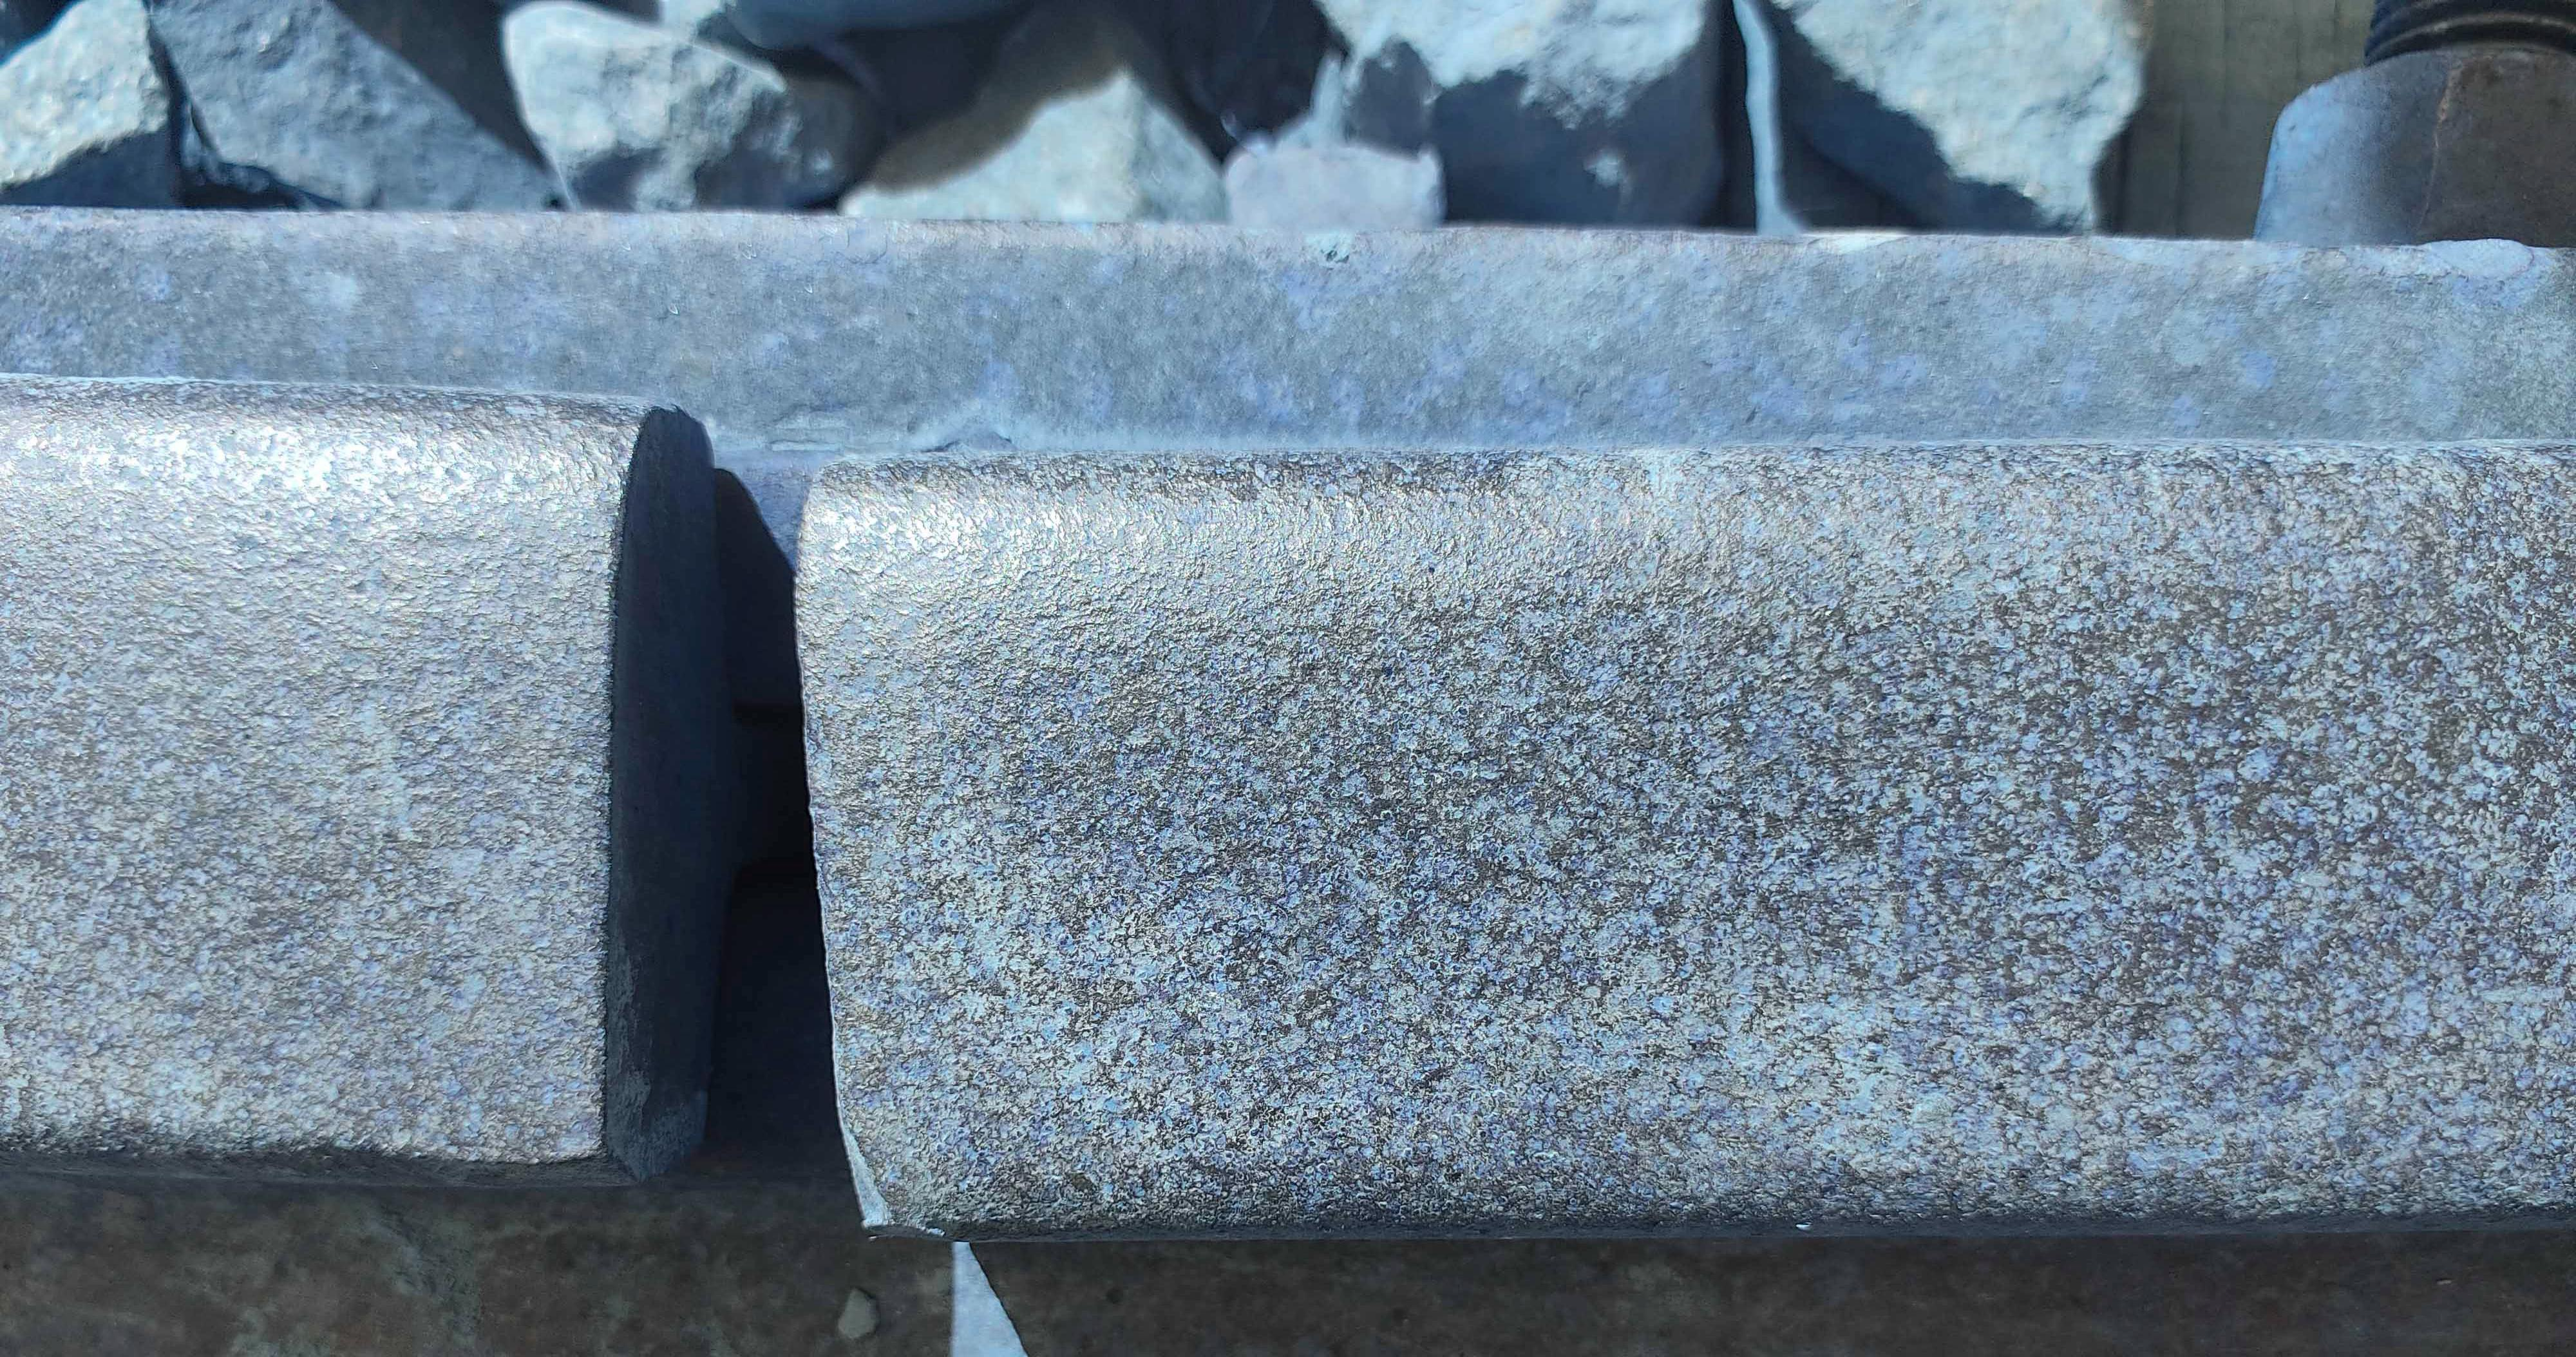error2: (484, 312, 971, 1255)
